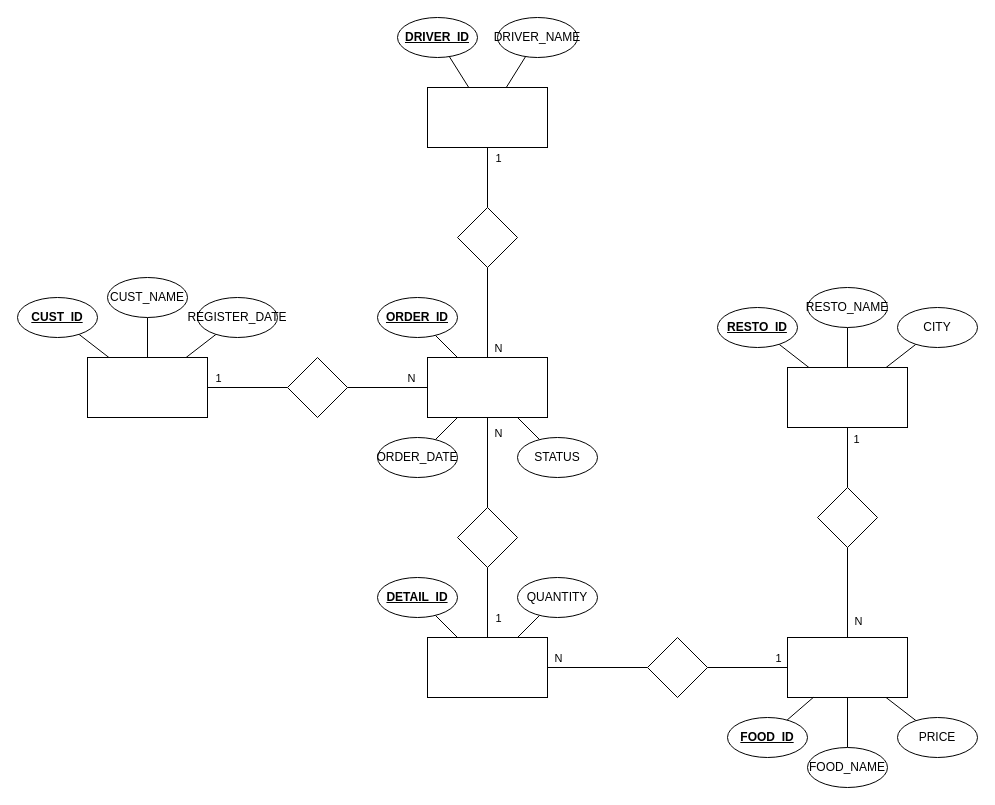
This 995x805 diagram has some shape labels left out. Here are the shapes that lost their labels. From the top down, the centre of each, then its label:
At point 487,117: "DRIVER".
At point 147,387: "CUSTOMER".
At point 487,387: "ORDER".
At point 847,397: "RESTO".
At point 487,667: "ORDER_DETAIL".
At point 847,667: "FOOD".
